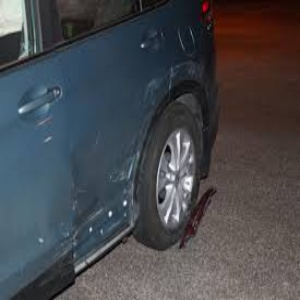bumper_scratch: (41, 132, 141, 274)
